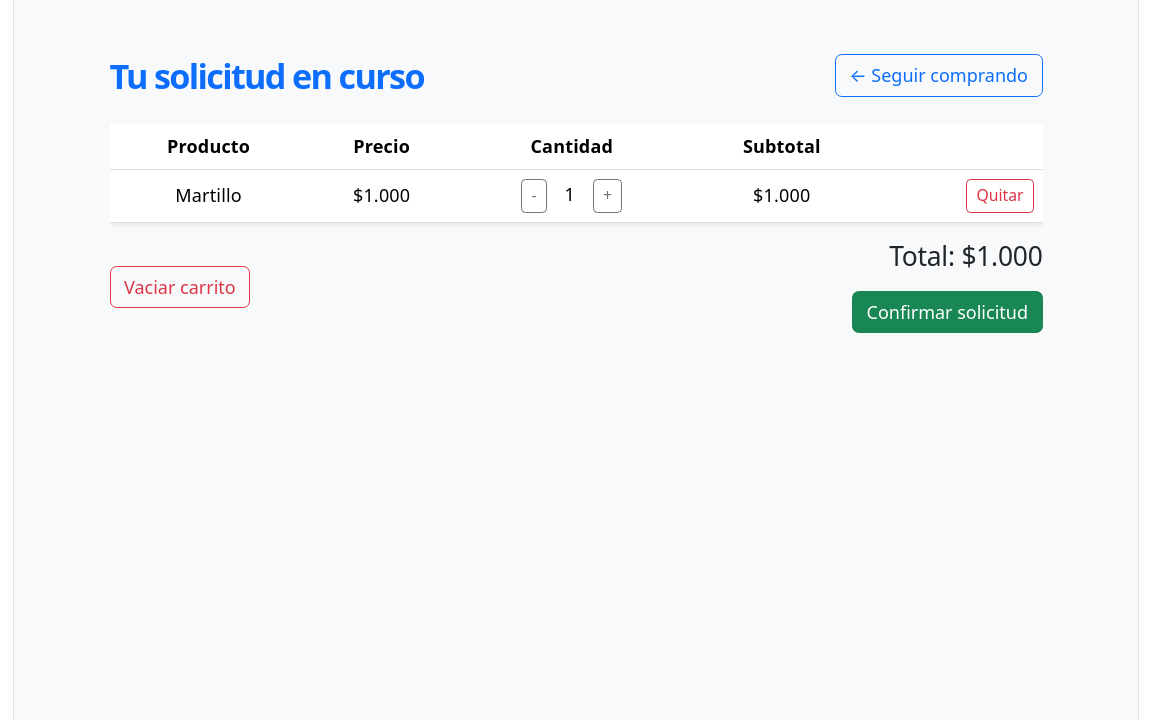
Test: Carrito (página) › quita un producto del carrito
This screenshot has width=1152, height=720.
Click the button with aria-label "Quitar Martillo": (1000, 196) [966,178,1034,213]
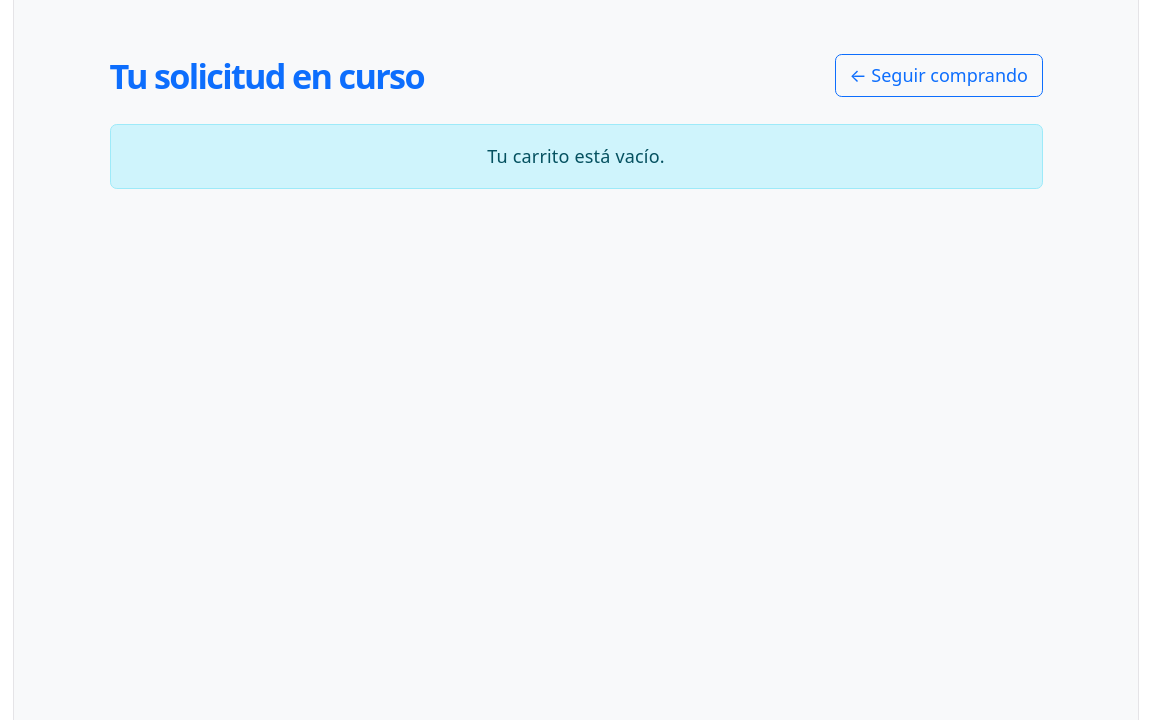
Expected: the text "Tu carrito está vacío." is shown, [110,124,1042,188]
